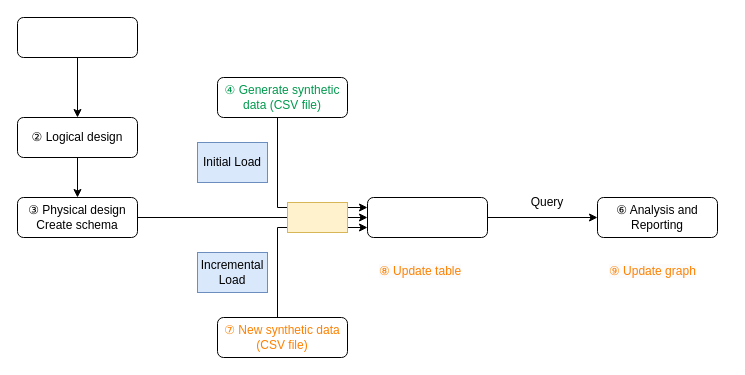
The diagram is 745 pixels wide and 375 high, and some of its shapes have lost their labels. Each missing label, with the box of its shape:
Validation Check: (286, 202, 348, 232)
① Conceptual design E-R diagram: (16, 16, 138, 58)
⑤ Database table: (366, 196, 488, 238)
